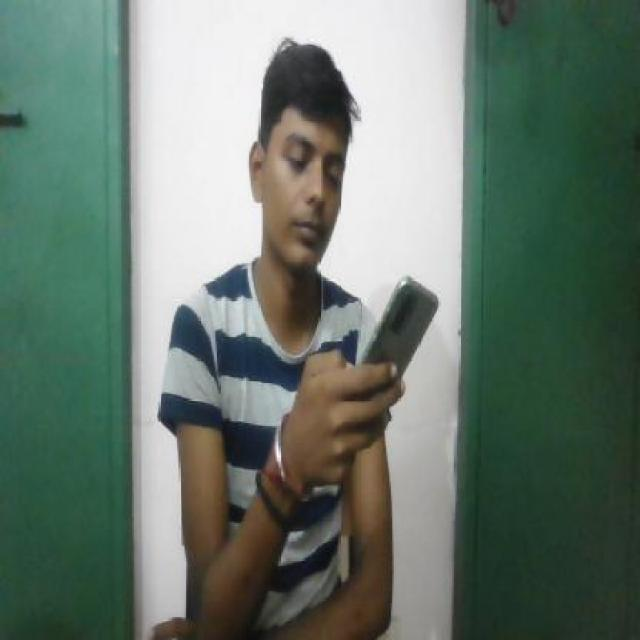Phone: (352, 274, 440, 370)
